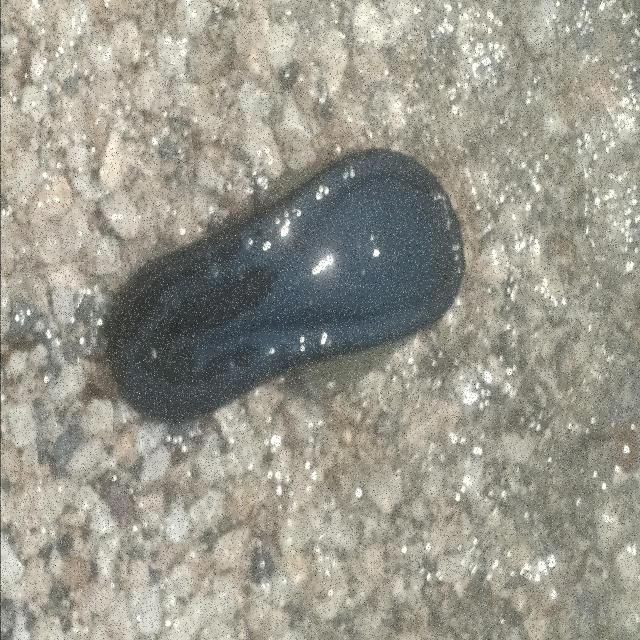rubber_waste: (108, 150, 464, 426)
